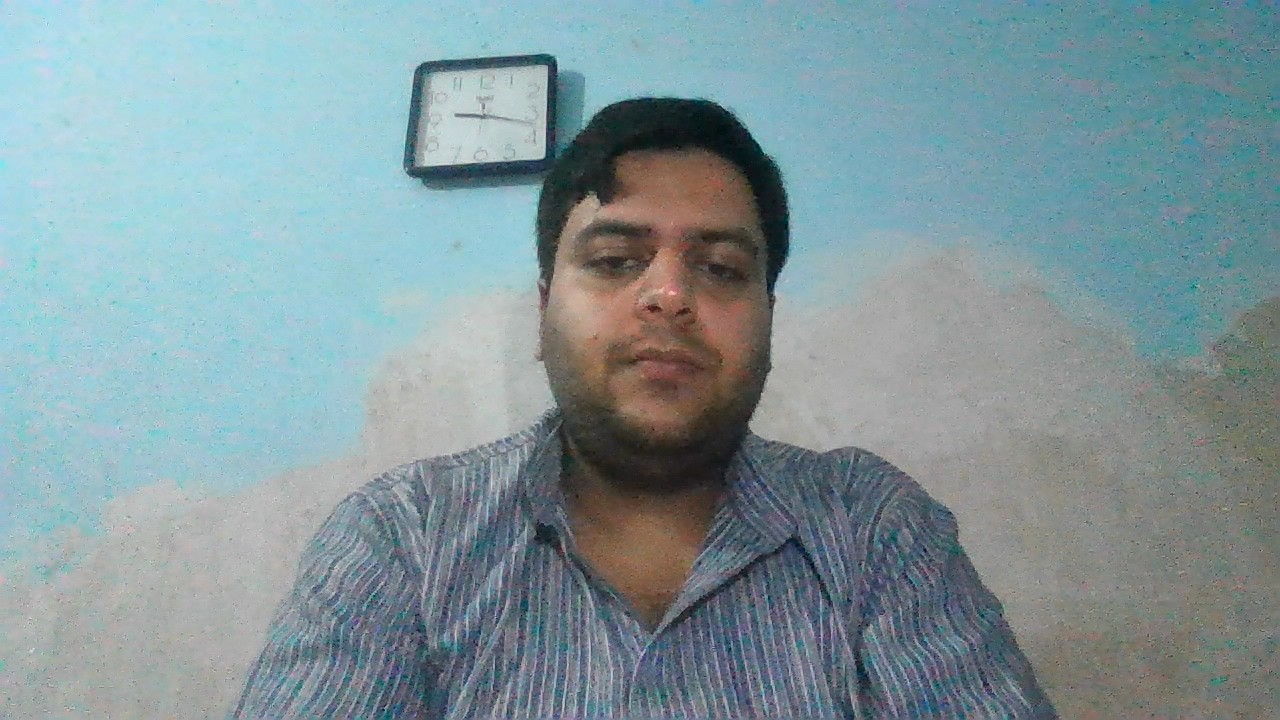No Mask: (533, 276, 780, 485)
